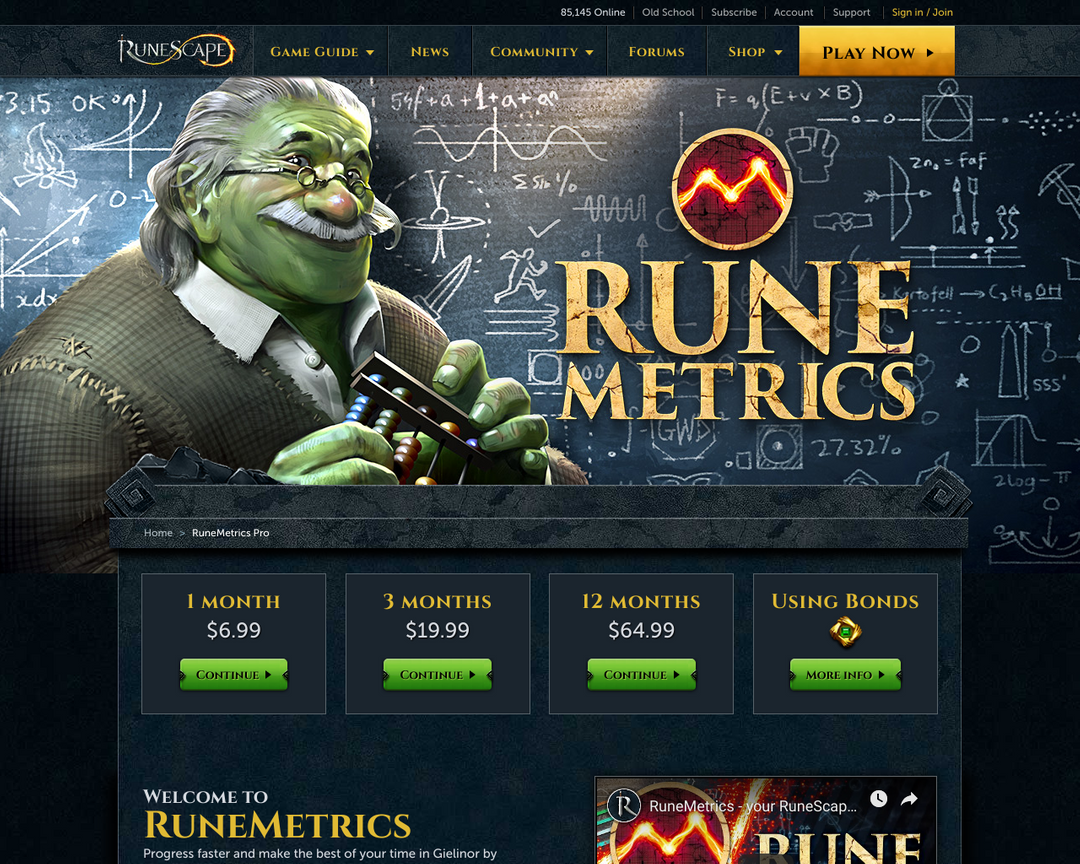Runescape: (112, 29, 240, 70)
